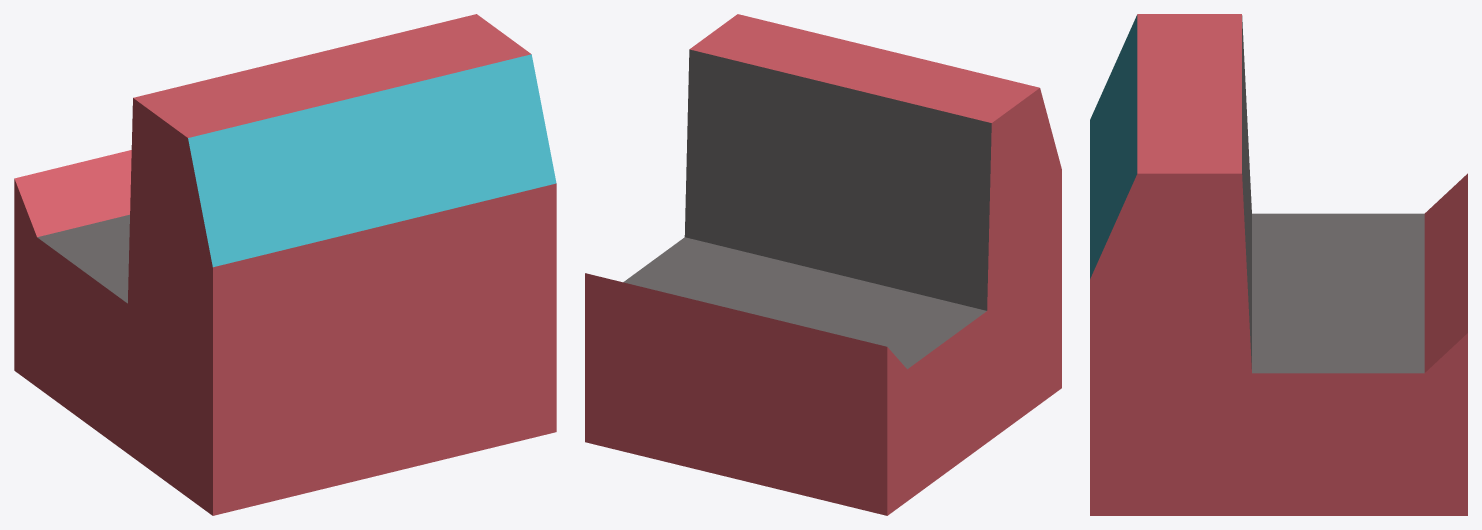
Rendered from kidscar.gltf.
3 renders of one model, left to right at view 1: azimuth 30°, elevation 25°; view 2: azimuth 150°, elevation 25°; view 3: azimuth 270°, elevation 25°, orthographic. The views are drawn at different scales.
Size of the model in its own units: 50 by 50 by 50.
